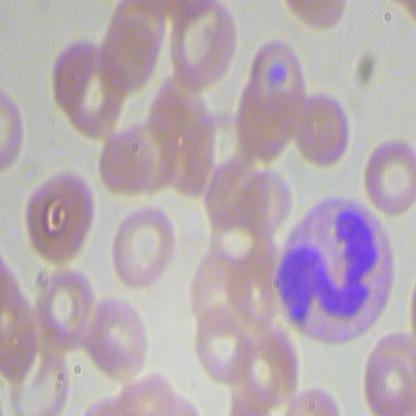RBC: (47, 37, 127, 139), (21, 168, 99, 271), (166, 1, 240, 95), (108, 205, 185, 291), (33, 263, 99, 352), (88, 295, 153, 383), (290, 88, 352, 170), (363, 136, 415, 220), (365, 332, 415, 415), (98, 130, 150, 199)
WBC: (270, 194, 394, 347)
